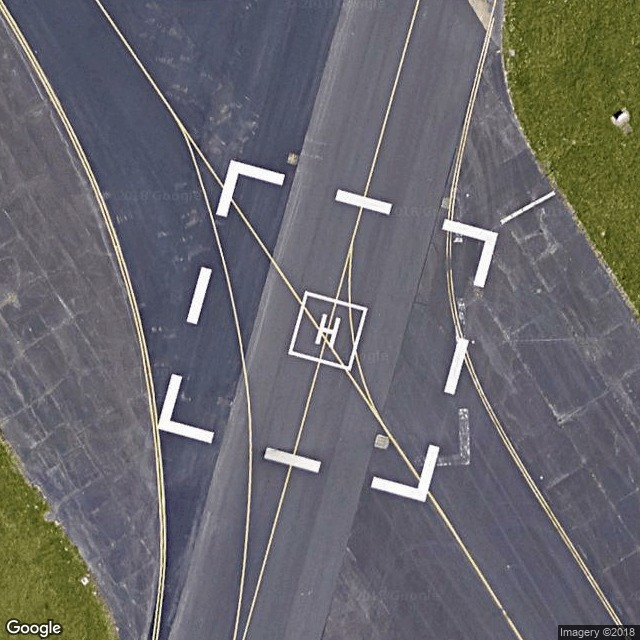heliport: (312, 309, 342, 350)
